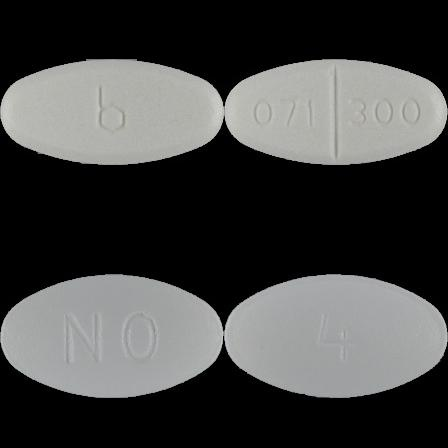51655-391: (0, 0, 224, 224)
